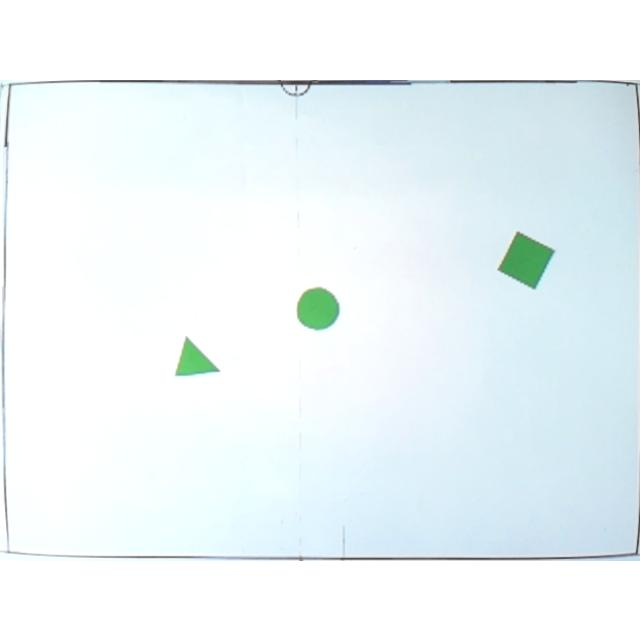greenSquare: (496, 228, 556, 288), (296, 284, 342, 330)
greenTriangle: (172, 332, 222, 380)
